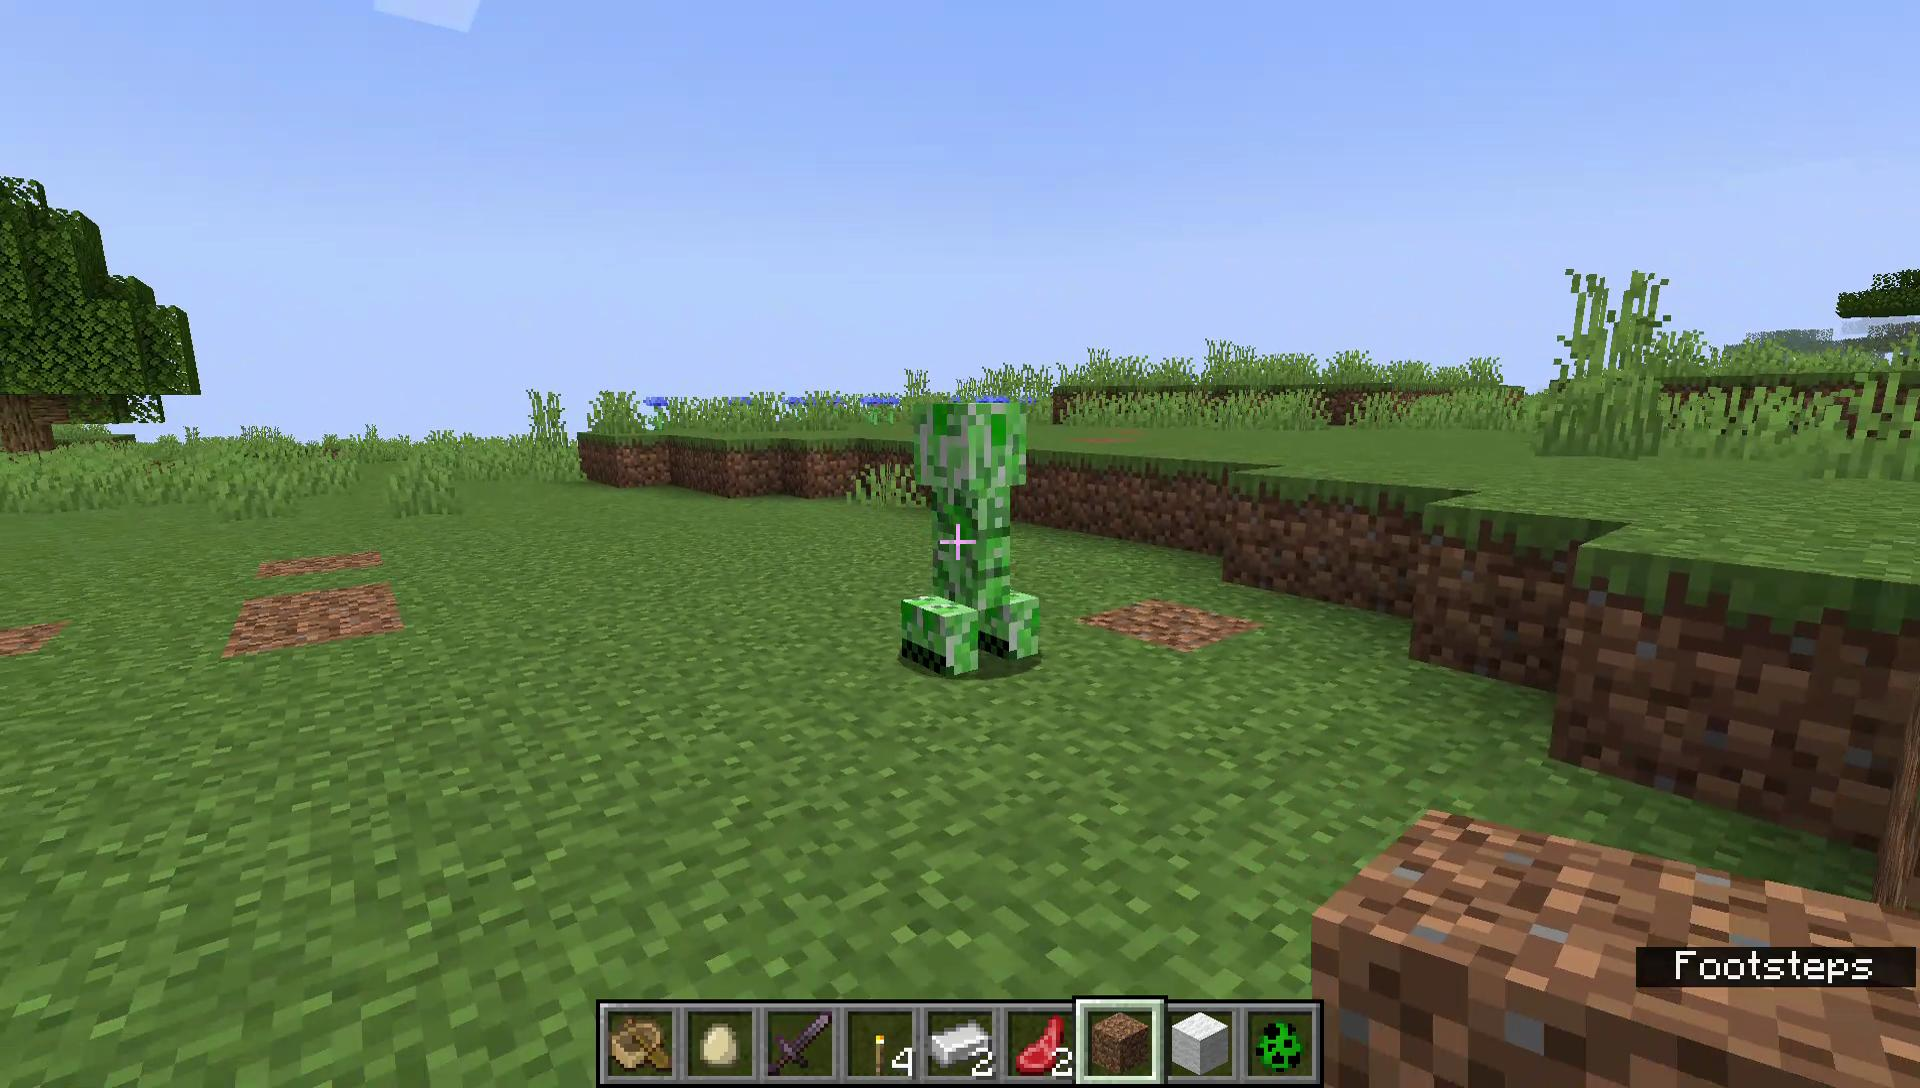creeper: (897, 398, 1044, 680)
